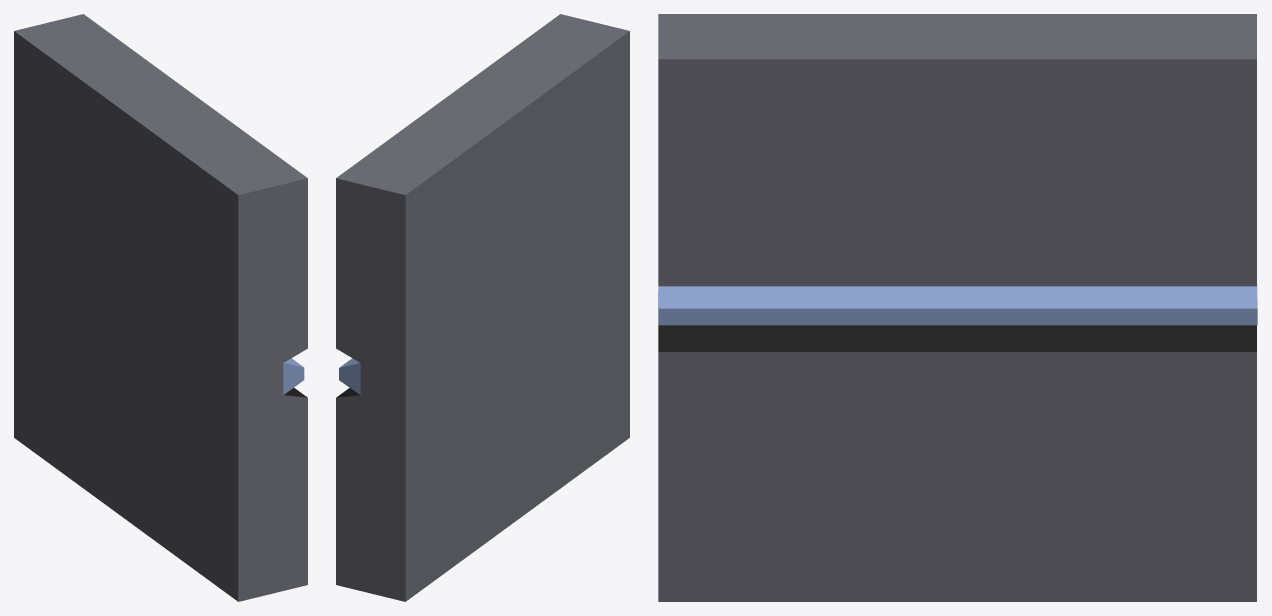
The model's file is MazeWallf.fbx.
3 views of the same model, side by side, from view 1: azimuth 30°, elevation 25°; view 2: azimuth 150°, elevation 25°; view 3: azimuth 270°, elevation 25° (orthographic). The views are drawn at different scales.
Visible parts, largest first — view 1: Cube; view 2: Cube; view 3: Cube.
Boxes of the visible parts, left/top/right/bottom form: Cube: left=14, top=14, right=307, bottom=601; Cube: left=336, top=14, right=629, bottom=601; Cube: left=658, top=14, right=1257, bottom=601.
Size of the model in its own units: 71.57 by 400 by 400.
